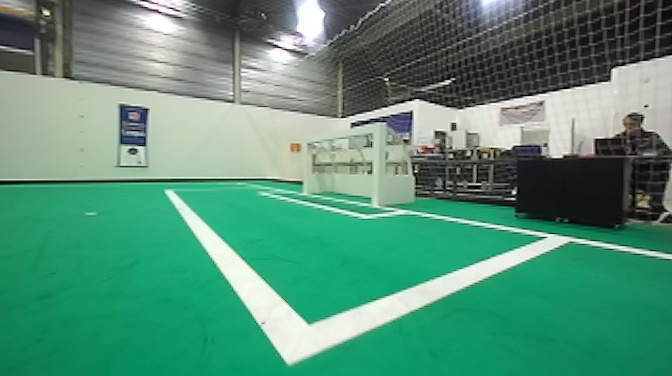goalpost: (366, 116, 389, 211), (297, 135, 326, 205)
